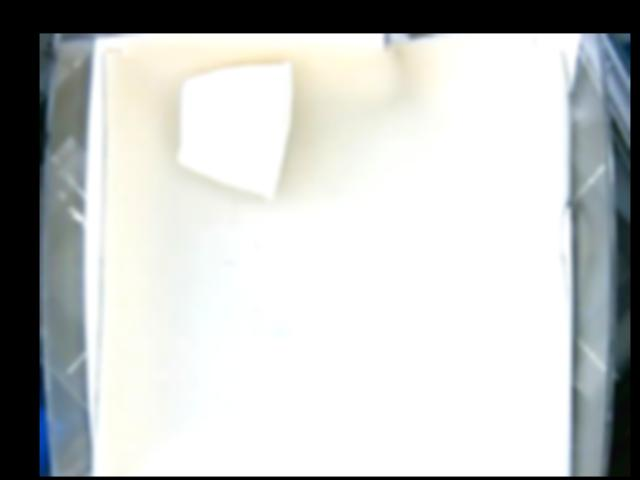Cup: (176, 62, 293, 199)
